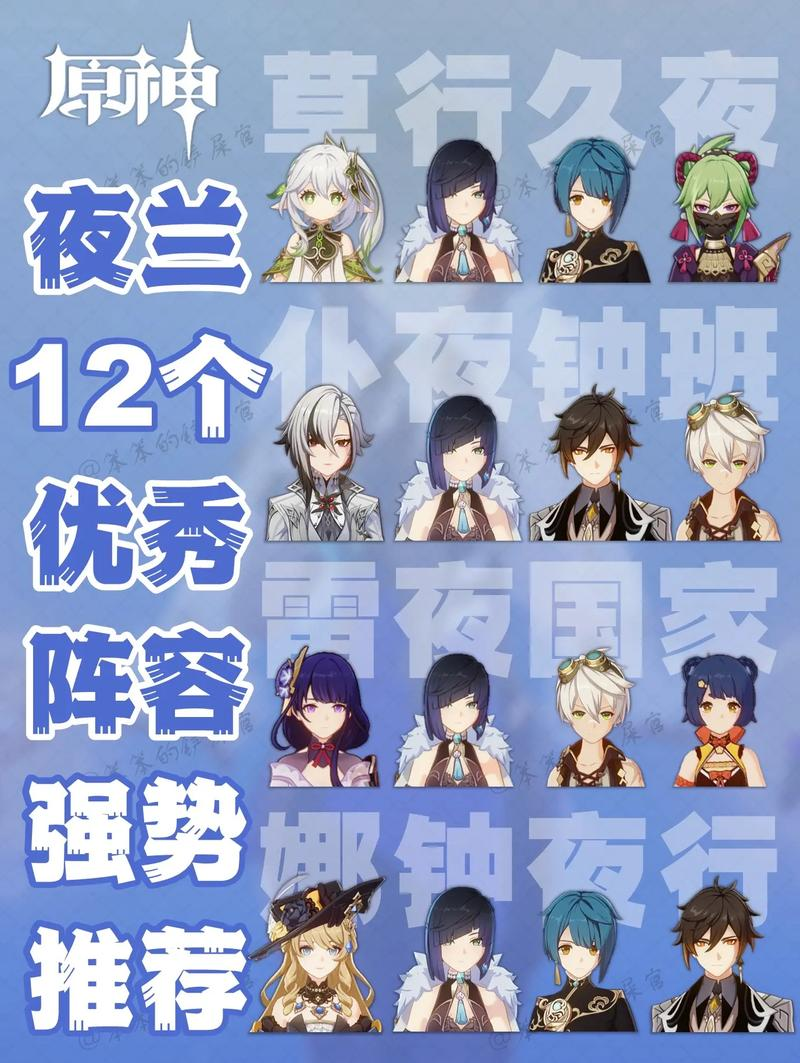夜兰: (397, 139, 530, 297), (384, 884, 507, 1044), (389, 391, 515, 547), (390, 656, 510, 805)
